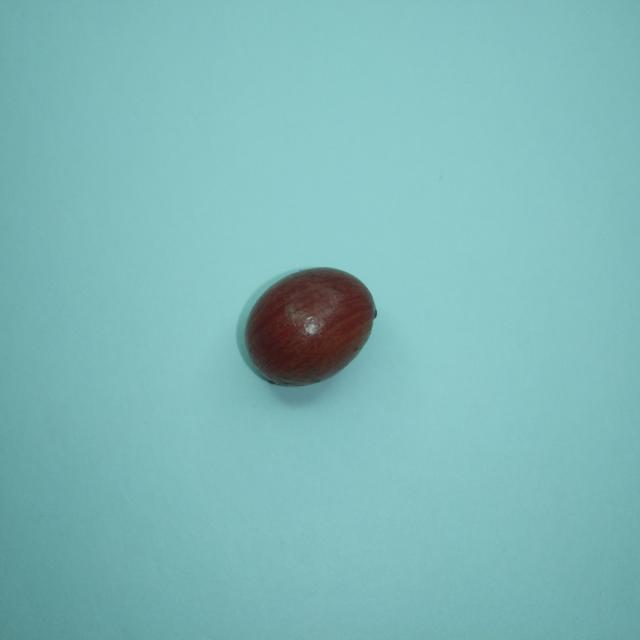Sano: (237, 268, 376, 385)
